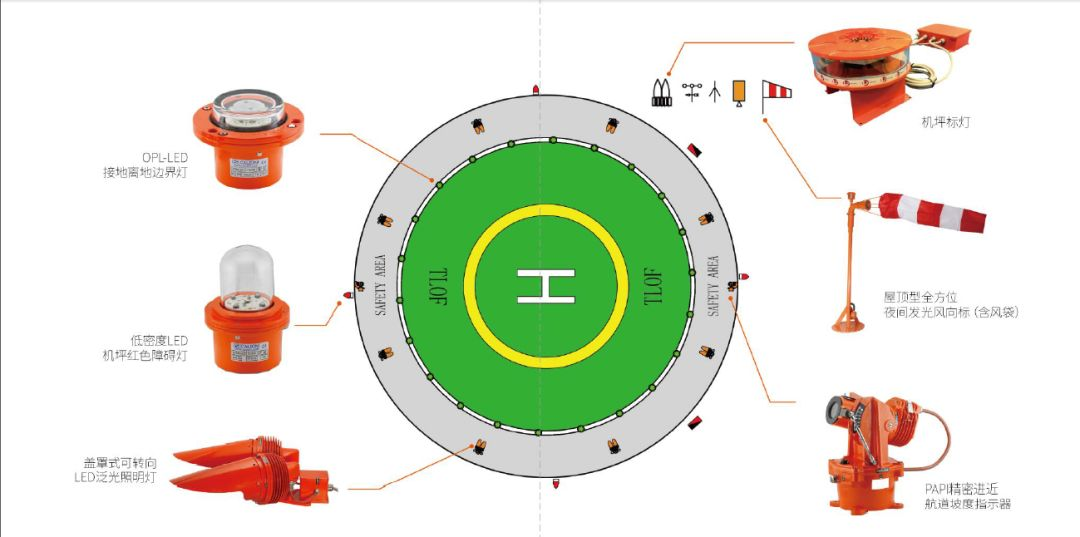H: (518, 270, 577, 305)
